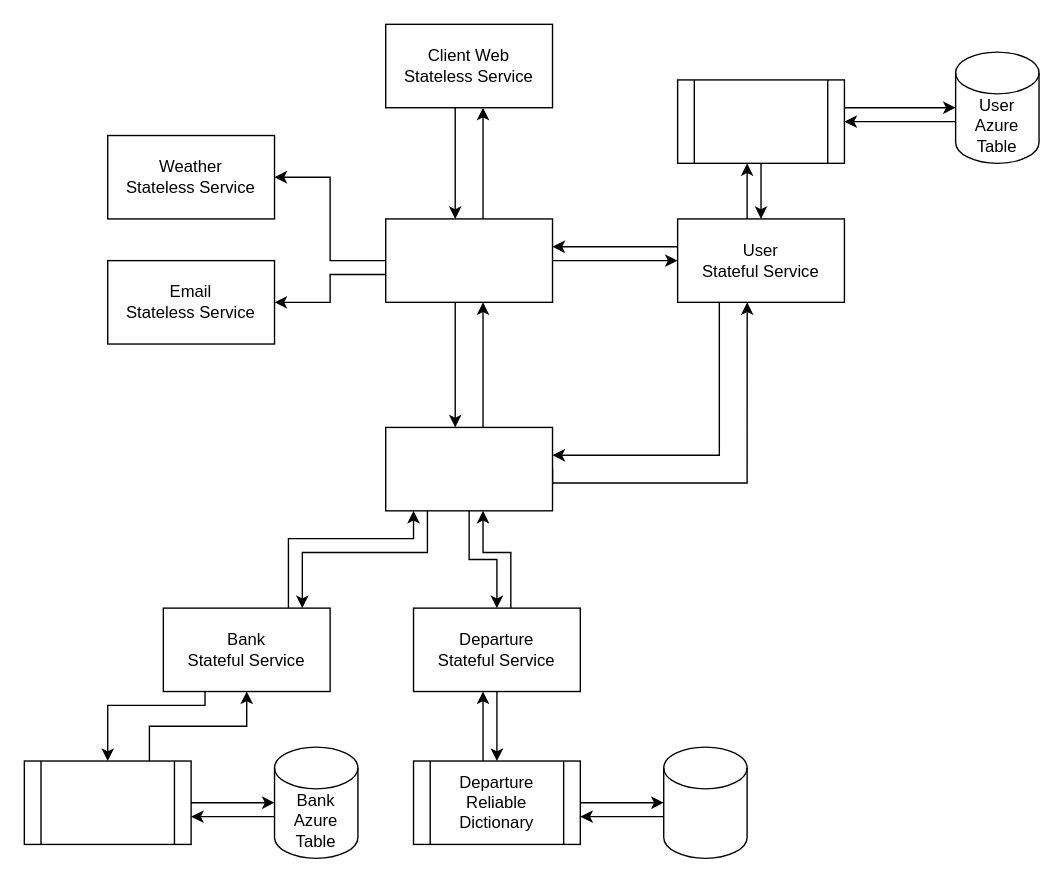
Some shapes in this 1063 by 883 pixel diagram are drawn without their labels. The centre of each missing label's shape, as x and y in pixels:
"Bank Reliable Dictionary" belongs at point (107, 802).
"Departure Azure Table" belongs at point (704, 802).
"Transaction Coordinator Stateful Service" belongs at point (468, 468).
"User Reliable Dictionary" belongs at point (760, 121).
"Validator Stateless Service" belongs at point (468, 260).
